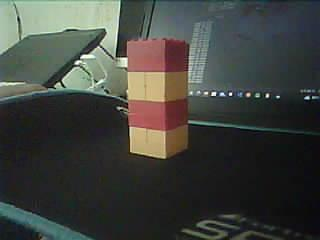lego: (126, 37, 189, 160)
